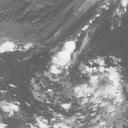cyclone: (82, 62, 123, 116)
